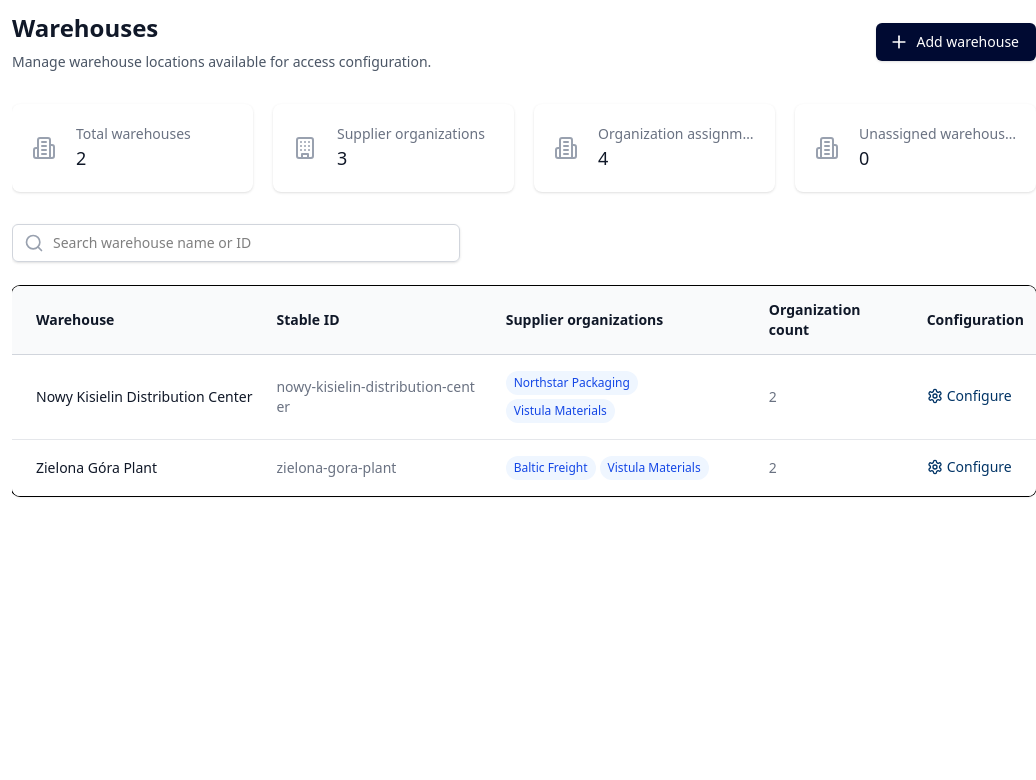
Test: WarehousesPage › 12. removes all records for a nonmatching search;
Type "nonexistent" into the field labelled "Search warehouse name or ID" at [236, 243], box [12,224,460,262]
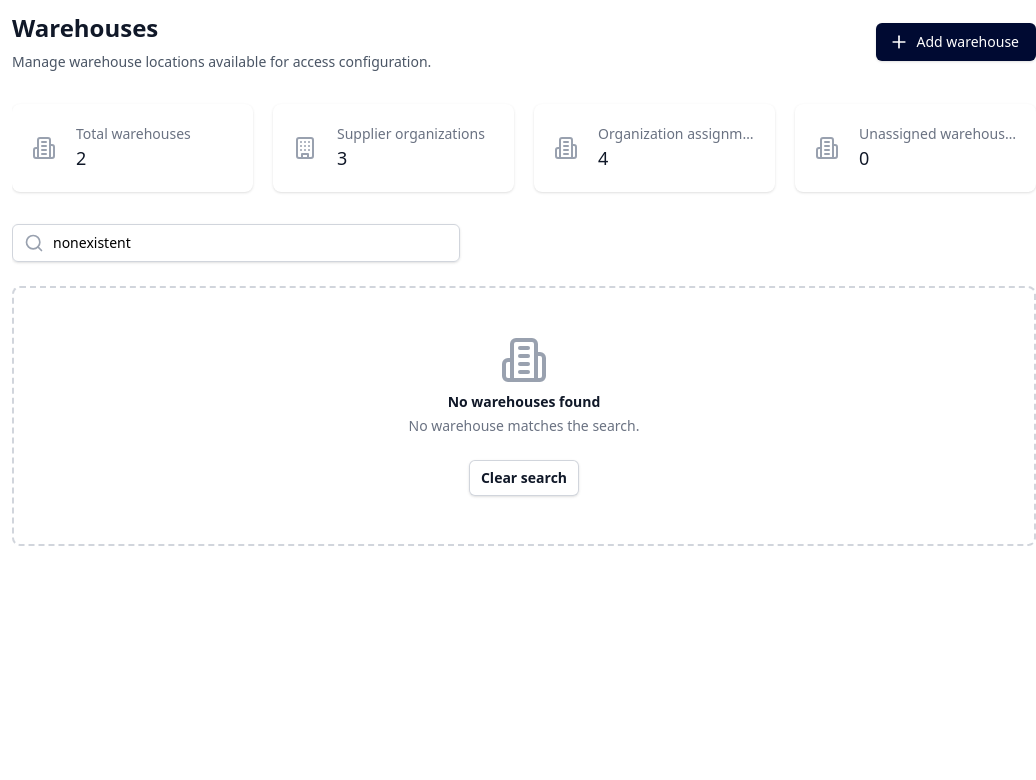
Now the text "Nowy Kisielin Distribution Center" is gone
Now the text "Zielona Góra Plant" is gone
